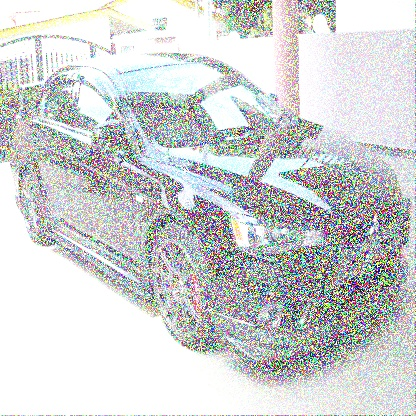Vehicle: (11, 51, 411, 376)
